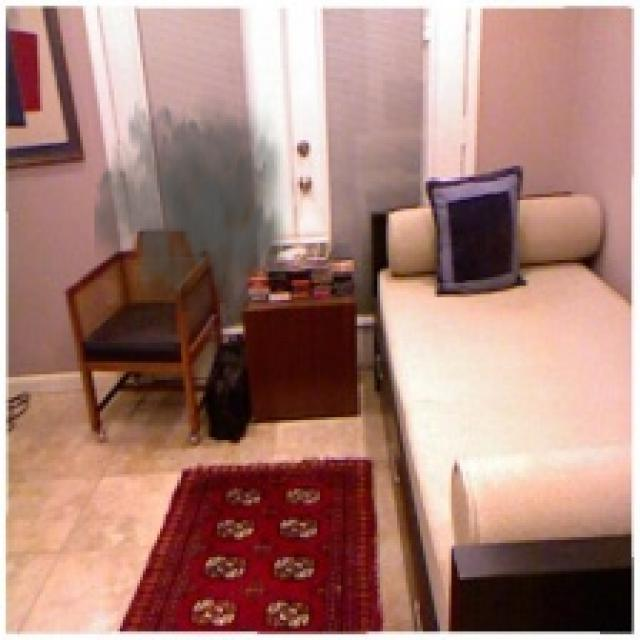Smoke: (94, 77, 297, 312)
